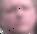without_mask: (1, 2, 37, 34)
